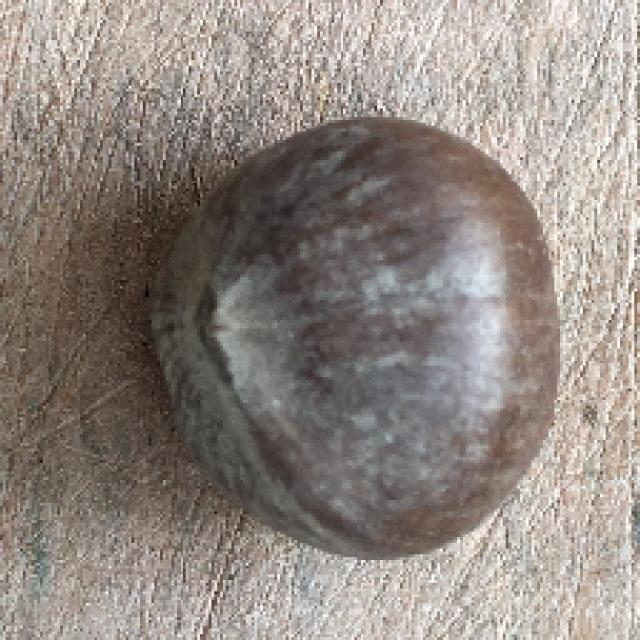damagedHazelnut: (139, 103, 563, 565)
